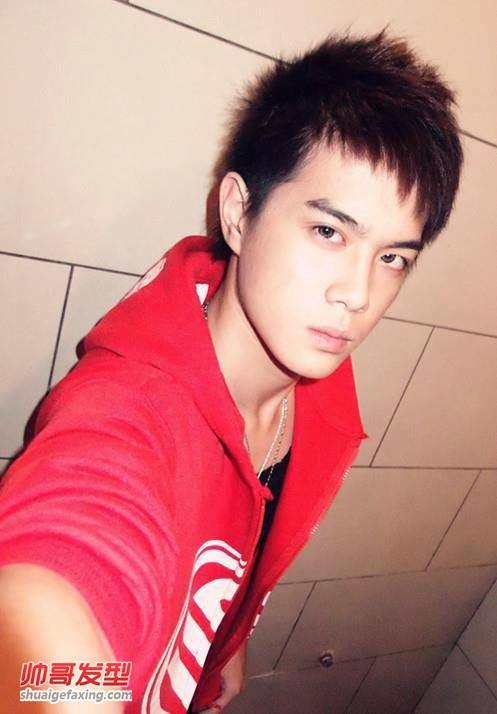person: (13, 54, 497, 620)
